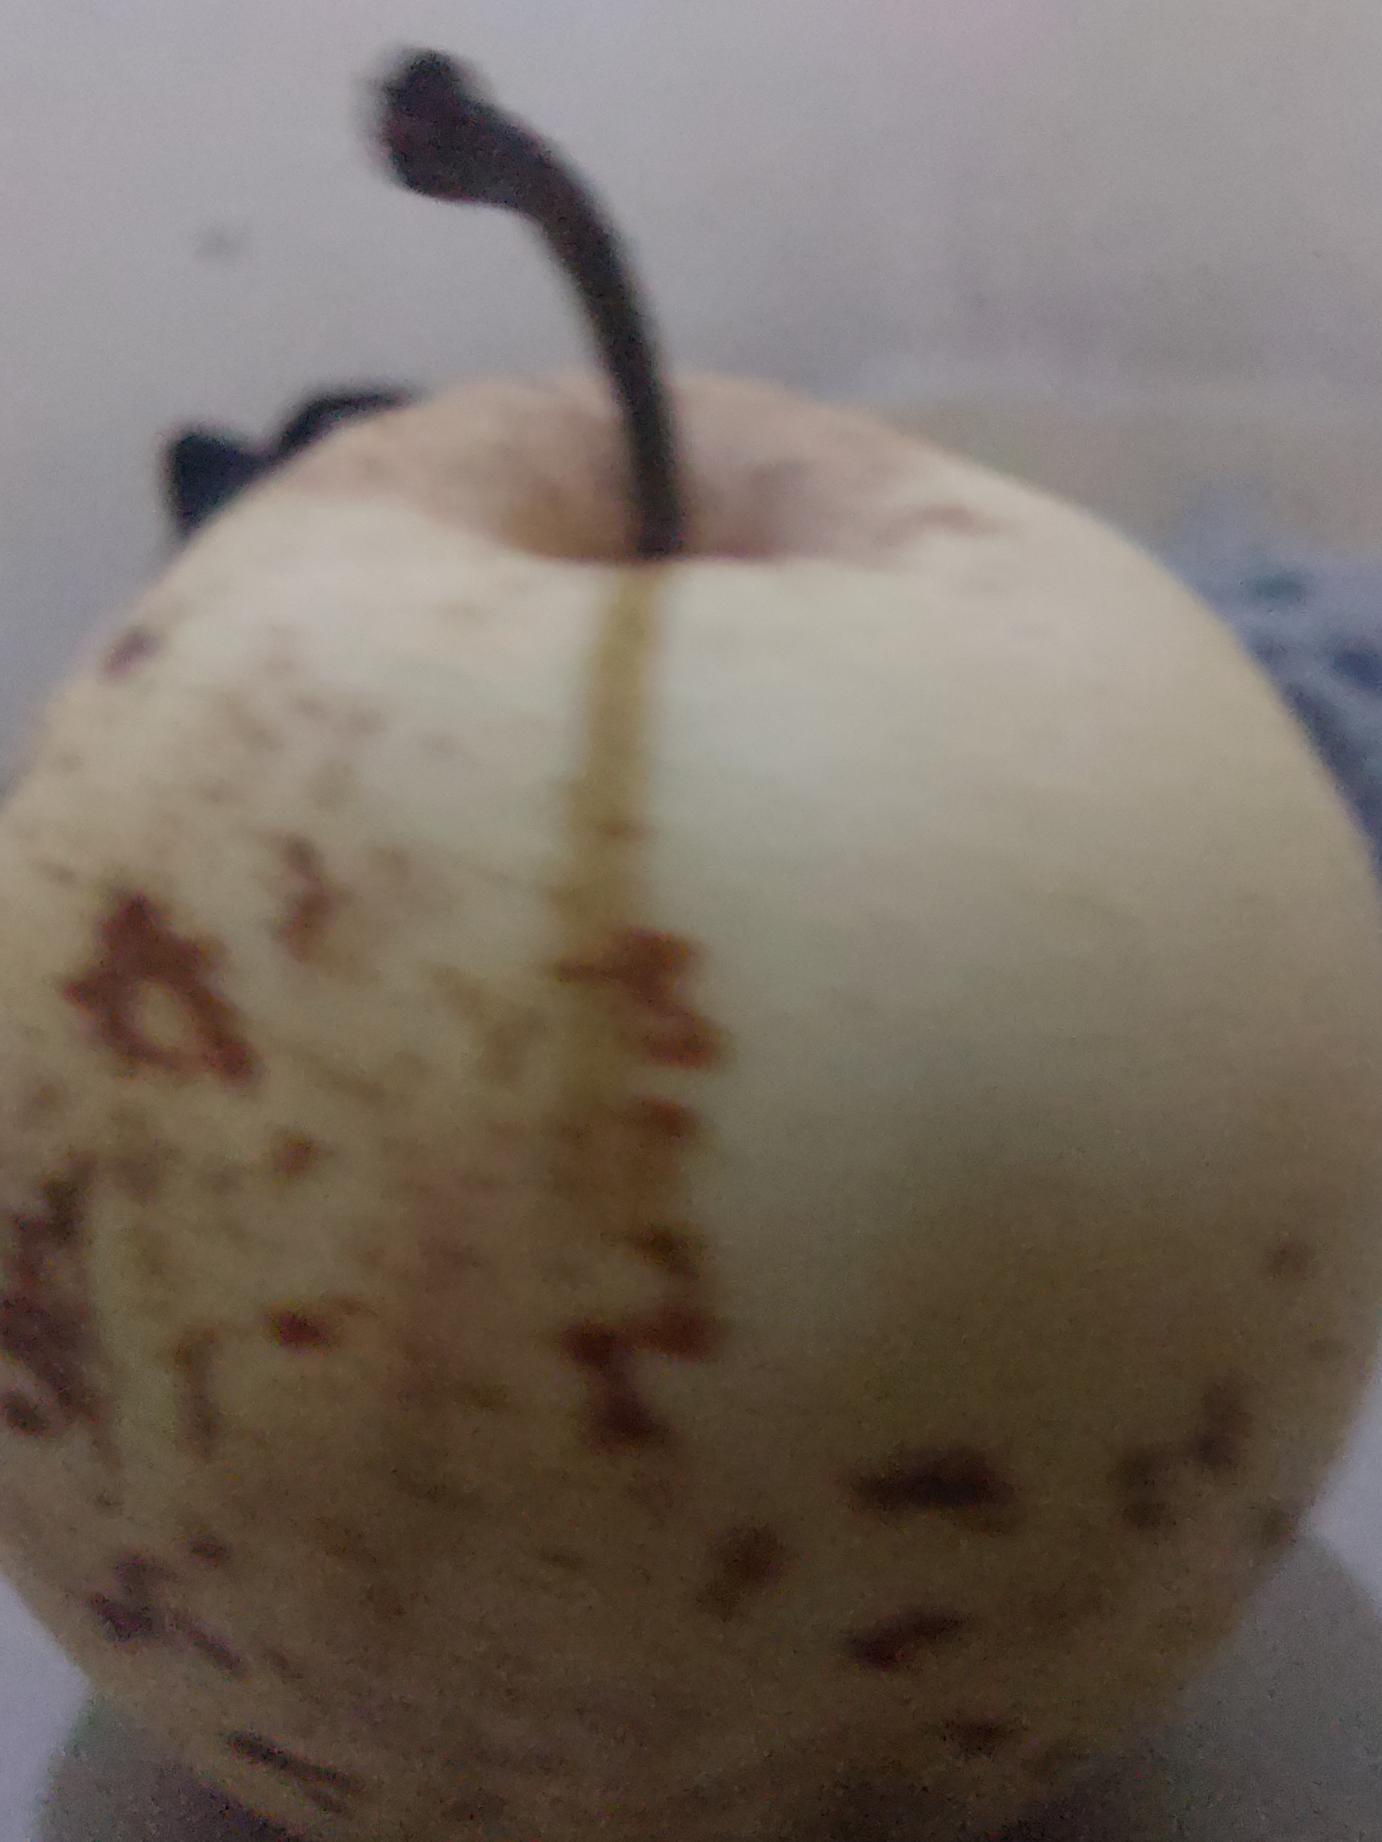Bad Pear: (0, 344, 1382, 1842)
